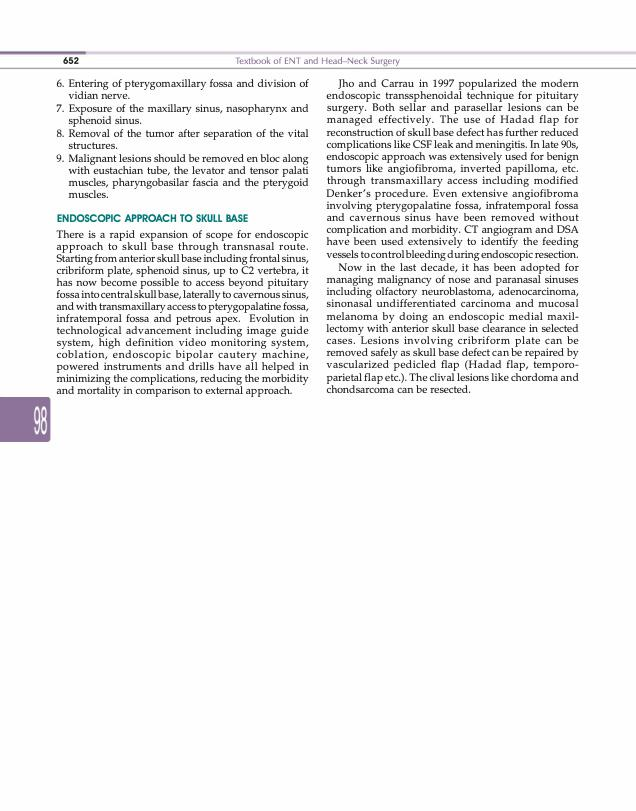header: (233, 55, 401, 68)
list: (54, 77, 309, 199)
section-heading: (56, 213, 250, 224)
text: (324, 77, 579, 395), (55, 229, 310, 398)
